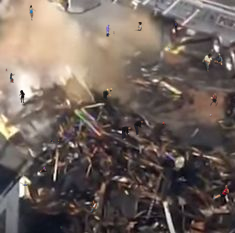Human: (122, 120, 144, 140), (202, 53, 223, 72), (213, 185, 229, 199), (5, 68, 15, 83), (209, 93, 218, 107), (29, 5, 36, 21), (90, 200, 98, 214), (103, 88, 112, 100), (134, 22, 143, 31), (19, 90, 25, 103), (106, 24, 111, 37), (40, 166, 50, 172), (173, 21, 178, 32), (49, 139, 59, 143), (20, 182, 28, 186), (208, 114, 212, 118), (162, 121, 166, 125), (113, 31, 115, 36), (168, 46, 170, 51), (39, 9, 41, 14), (60, 226, 63, 229)
